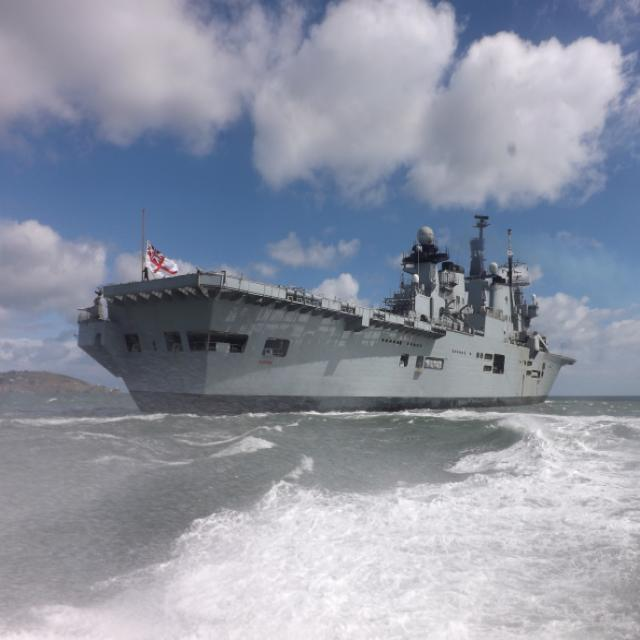Portanaves: (75, 195, 581, 422)
